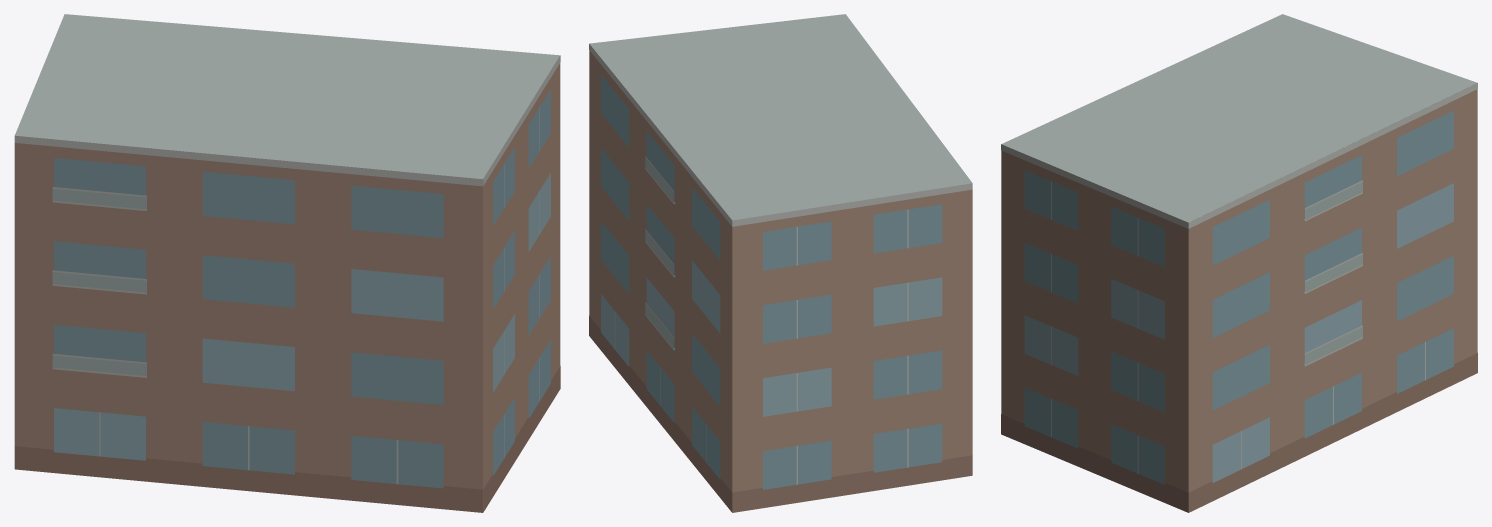
File: survey-upis-32949435.glb
The picture shows the model from 3 angles, left to right: view 1: azimuth 30°, elevation 25°; view 2: azimuth 150°, elevation 25°; view 3: azimuth 270°, elevation 25°; orthographic projection. The views are drawn at different scales.
Visible parts, largest first — view 1: survey-upis-32949435.tmp; view 2: survey-upis-32949435.tmp; view 3: survey-upis-32949435.tmp.
Part boxes in pixels (x1=…): survey-upis-32949435.tmp: x1=14, y1=14, x2=560, y2=512; survey-upis-32949435.tmp: x1=589, y1=14, x2=972, y2=512; survey-upis-32949435.tmp: x1=1001, y1=14, x2=1477, y2=512.
Bounding box in the file's own units: 17.59 × 11.4 × 16.97.
